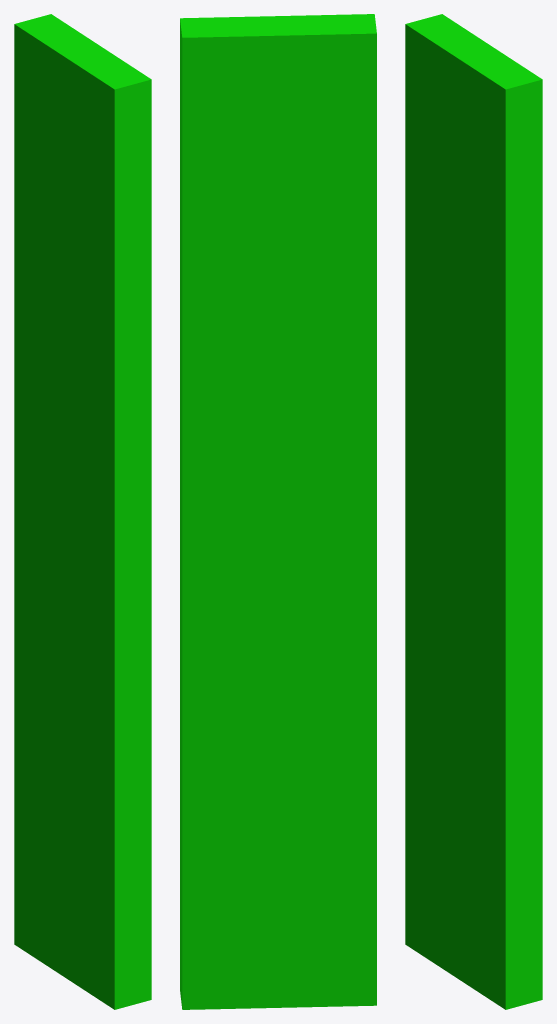
3 views of the same model, side by side, from view 1: azimuth 90°, elevation 25°; view 2: azimuth 150°, elevation 25°; view 3: azimuth 270°, elevation 25° (orthographic). The views are drawn at different scales.
Visible parts, largest first — view 1: Cube.008; view 2: Cube.008; view 3: Cube.008.
Part boxes in pixels (<box>): Cube.008: <box>14,14,151,1009</box>; Cube.008: <box>180,14,376,1009</box>; Cube.008: <box>405,14,542,1009</box>.
Bounding box in the file's own units: 325 × 1846 × 250.
